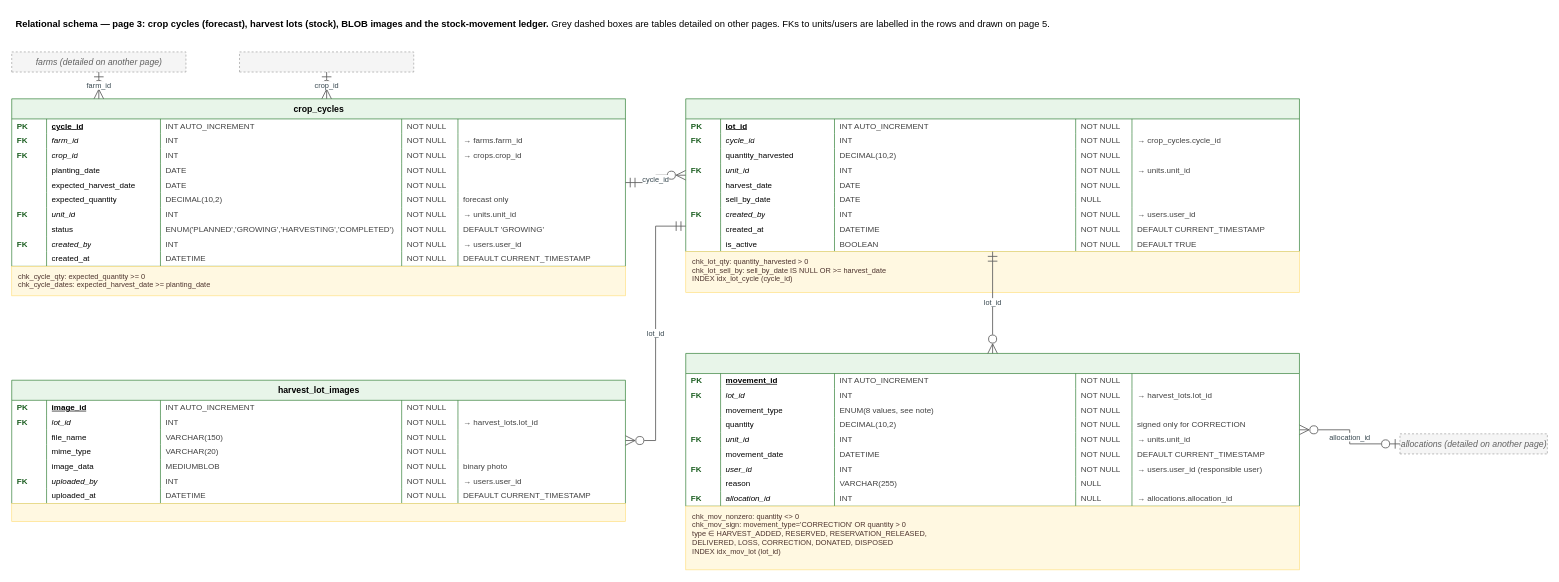
Some shapes in this 1559 by 582 pixel diagram are drawn without their labels. The shapes that lost their labels are listed below. From the top down, each one's box as (x1, y1, x2, y2) in pixels, then its label:
(239, 51, 414, 72): crops (detailed on another page)
(685, 98, 1299, 252): harvest_lots
(685, 353, 1299, 506): stock_movements
(11, 503, 625, 522): chk_img_type: mime_type IN ('image/jpeg','image/png')
